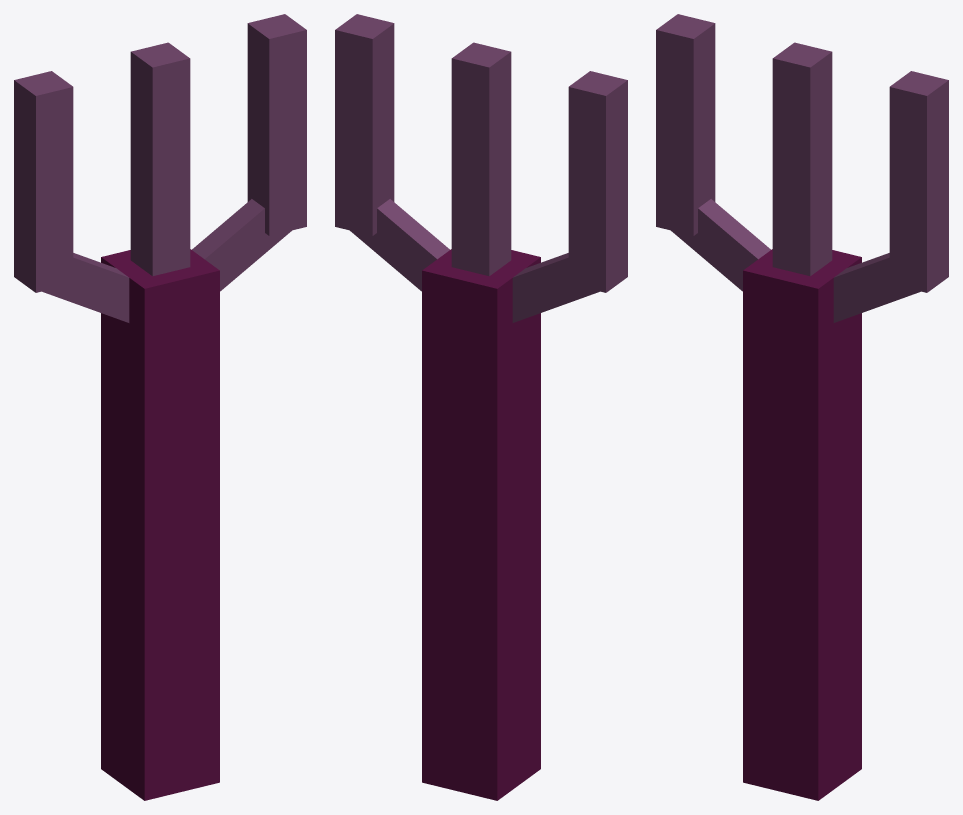
Rendered from HeresyTrident.fbx.
3 renders of one model, left to right at view 1: azimuth 30°, elevation 25°; view 2: azimuth 150°, elevation 25°; view 3: azimuth 330°, elevation 25°, orthographic.
Parts seen in each view (by area): view 1: Cube.001, Cube.004, Cube.005, Cube.006; view 2: Cube.001, Cube.004, Cube.005, Cube.006; view 3: Cube.001, Cube.005, Cube.004, Cube.006.
Boxes of the visible parts, x1,y1,x2,y2 form: Cube.001: (101, 249, 219, 800); Cube.004: (192, 14, 306, 291); Cube.005: (14, 71, 129, 322); Cube.006: (130, 42, 190, 276); Cube.001: (422, 249, 540, 800); Cube.004: (335, 14, 449, 291); Cube.005: (512, 71, 627, 322); Cube.006: (451, 42, 511, 276); Cube.001: (743, 249, 861, 800); Cube.005: (656, 14, 770, 291); Cube.004: (833, 71, 948, 322); Cube.006: (772, 42, 832, 276).
Bounding box in the file's own units: 72 × 183 × 20.
